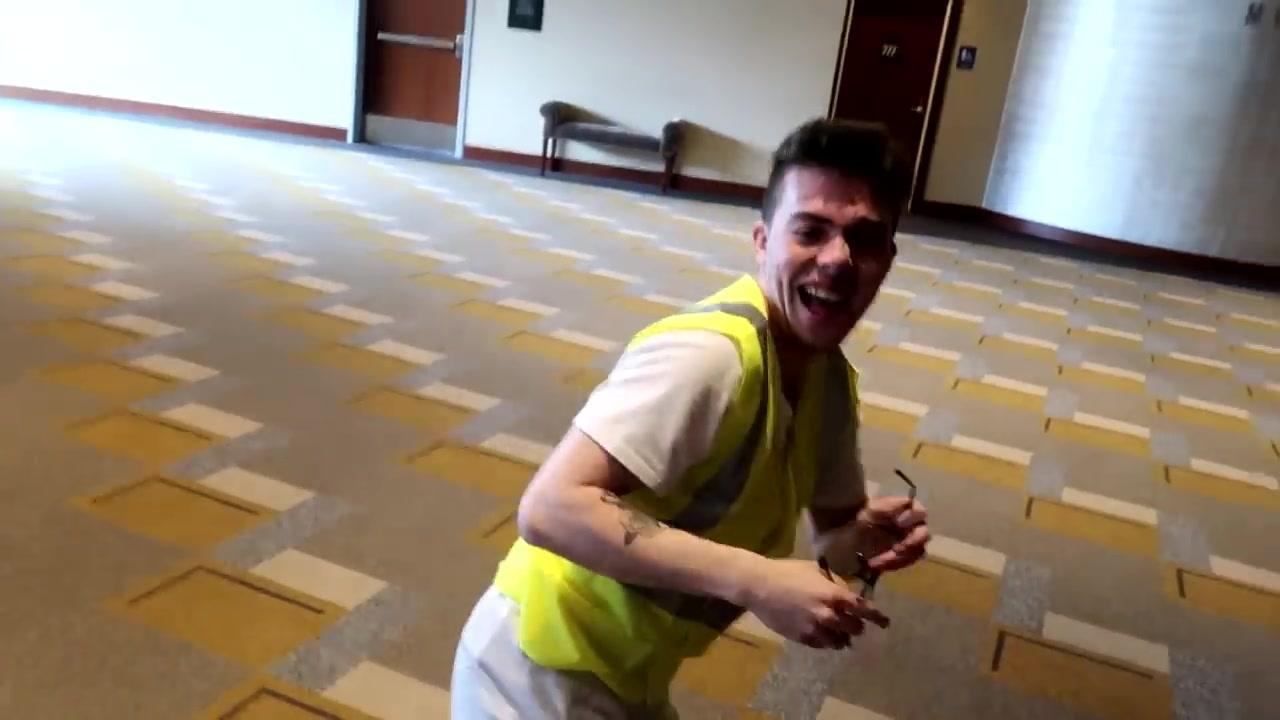vest: (494, 260, 861, 710)
